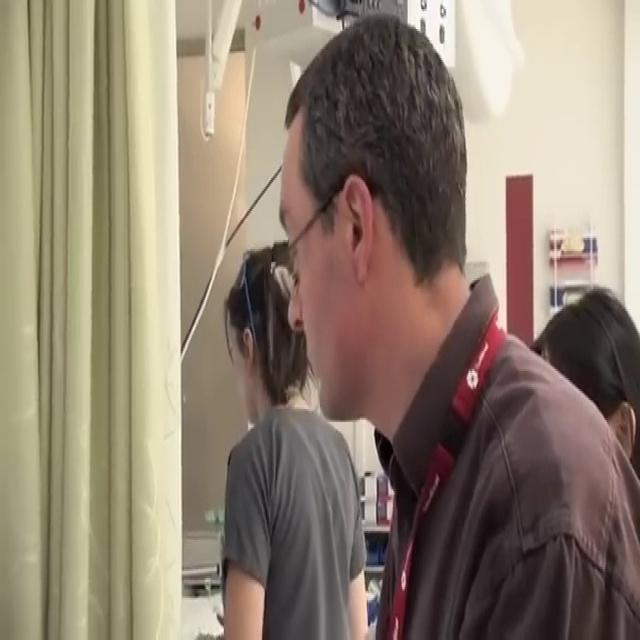doctor: (277, 13, 639, 638)
others: (219, 244, 368, 638)
